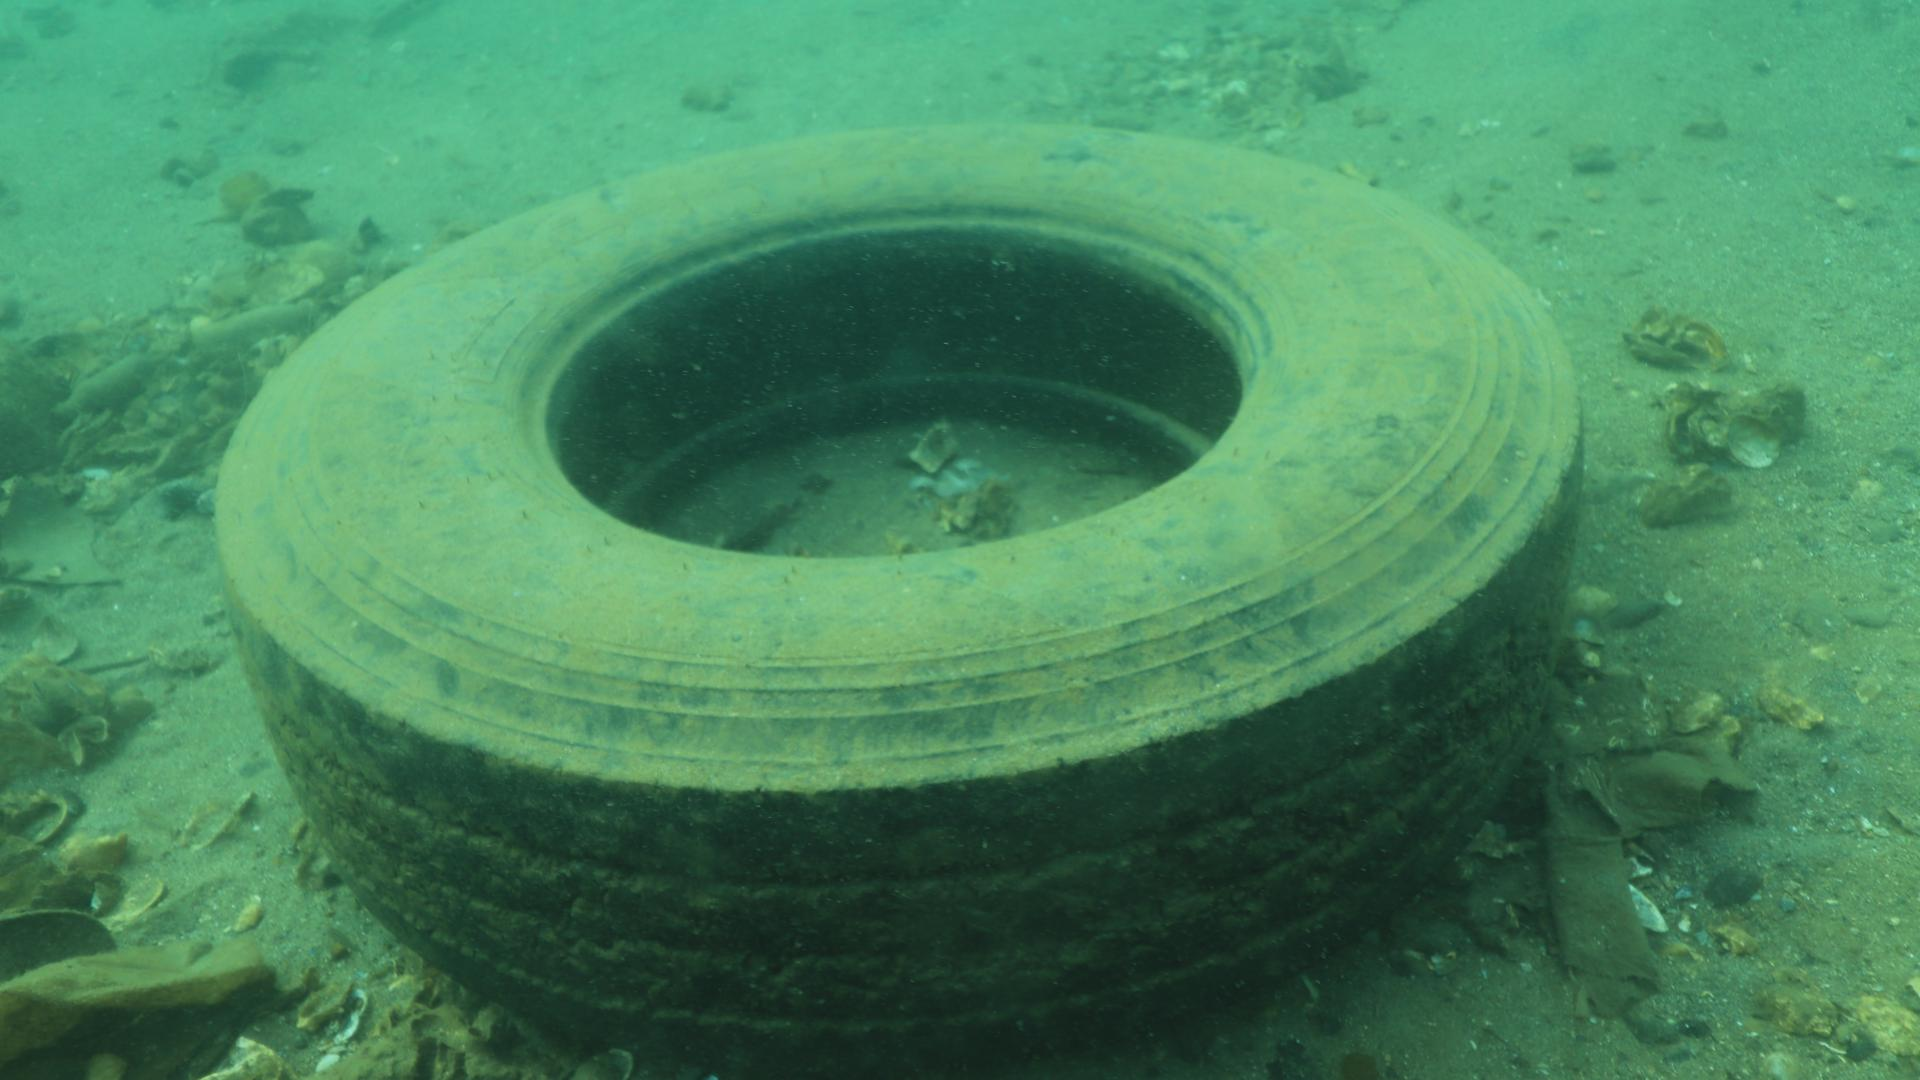tire: (208, 120, 1581, 1079)
